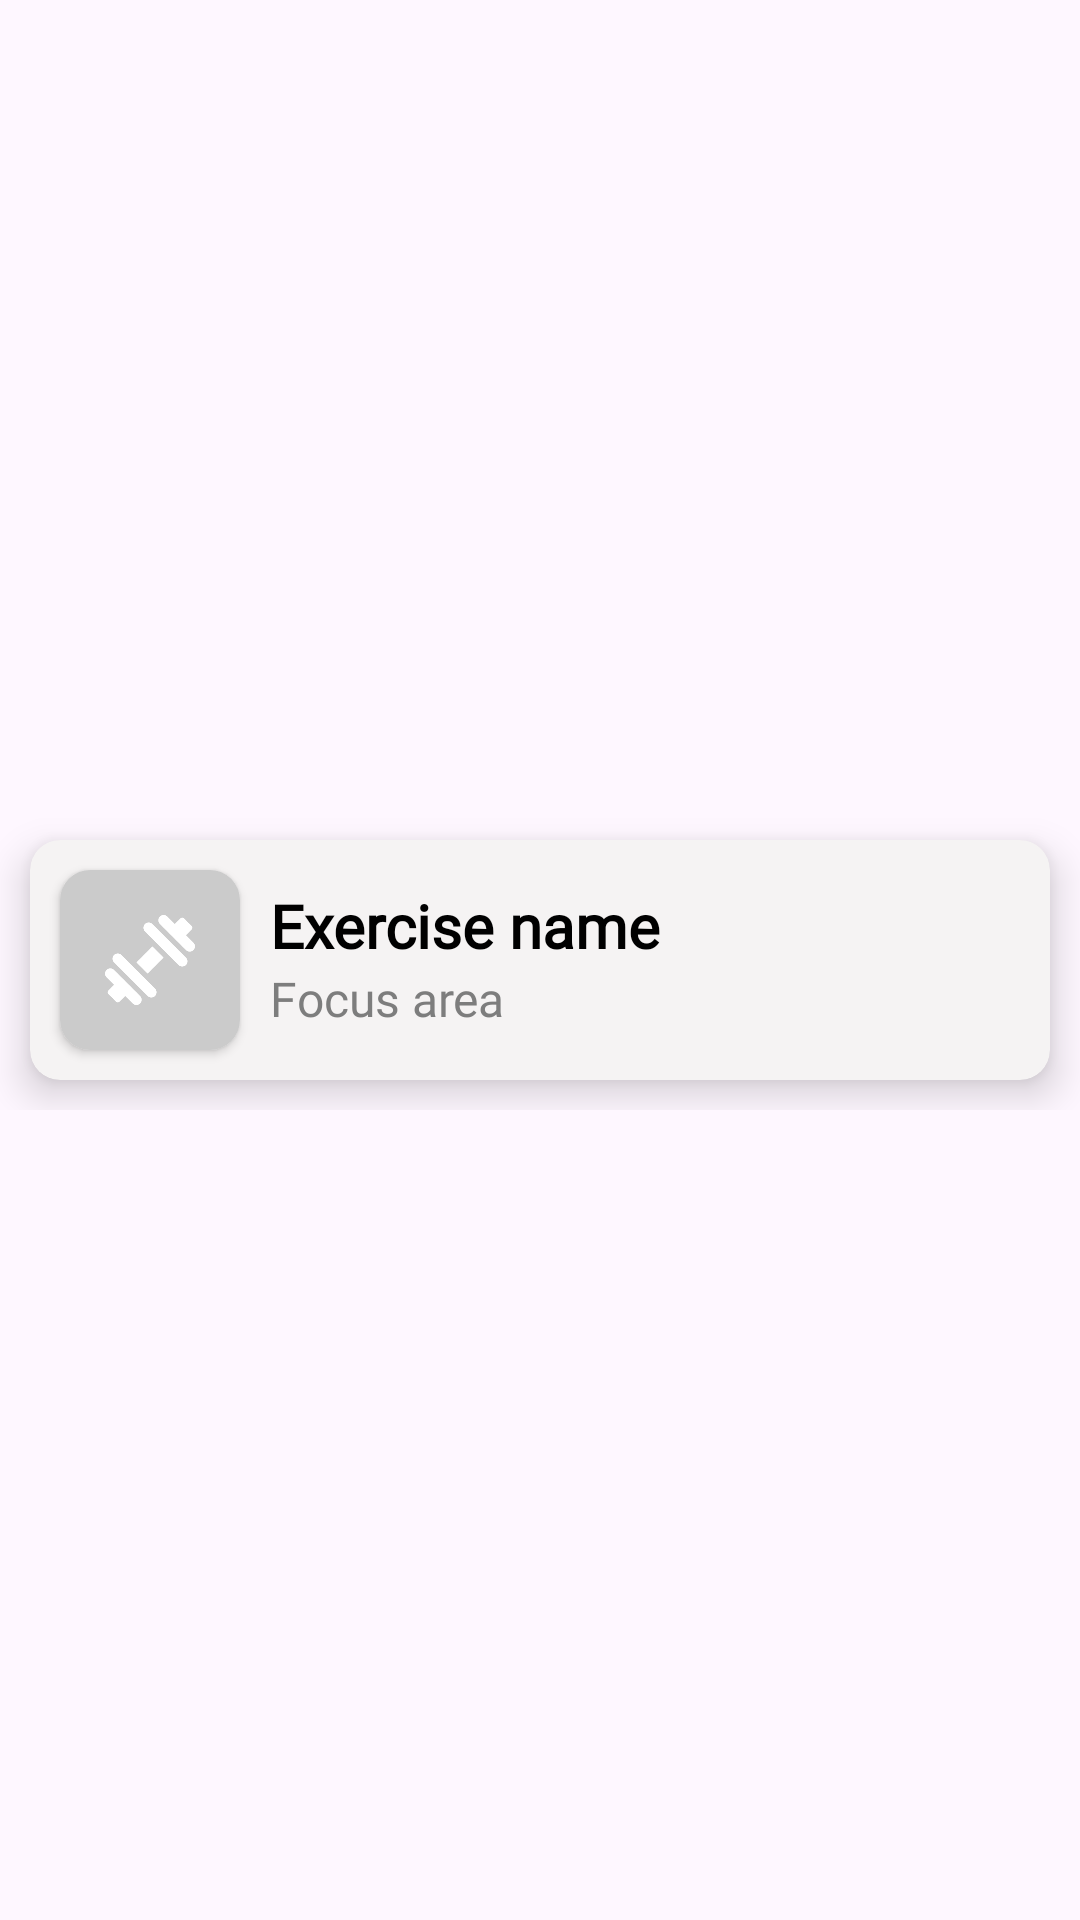

Locate icon controls on the screen. Image size 1080px×1920px, boxes as [left=x1, top=y1, right=x2, bottom=y2].
dumbbell: [left=60, top=870, right=240, bottom=1050]
